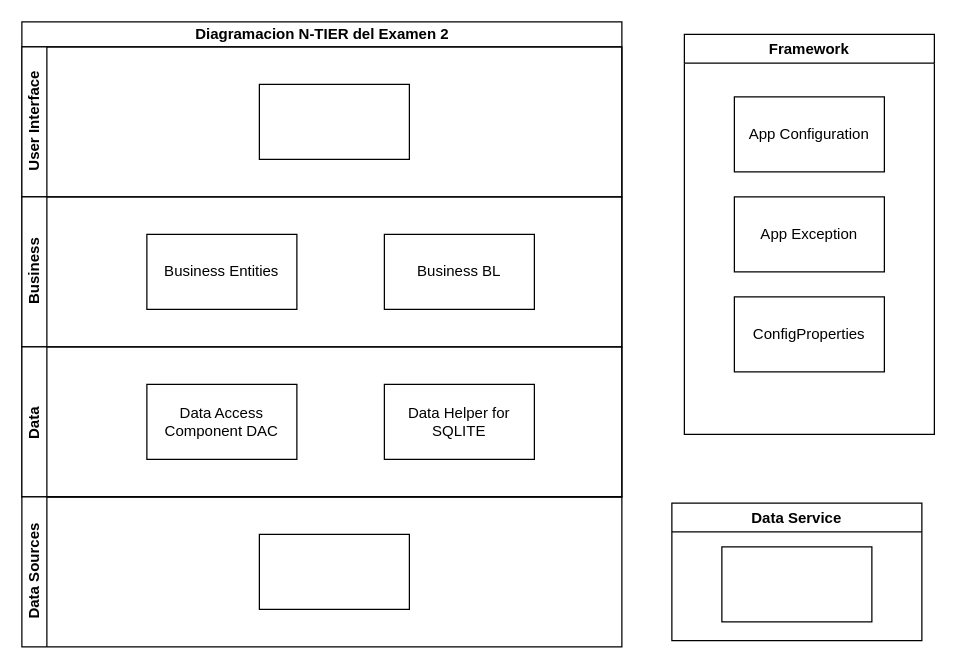
Some shapes in this 956 by 669 pixel diagram are drawn without their labels. The centre of each missing label's shape, as x and y in pixels:
SQL: (796,584)
SQLITE: (333,571)
UI Component (sg_App): (333,121)
